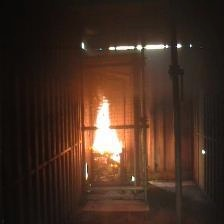fire: (85, 95, 124, 156)
